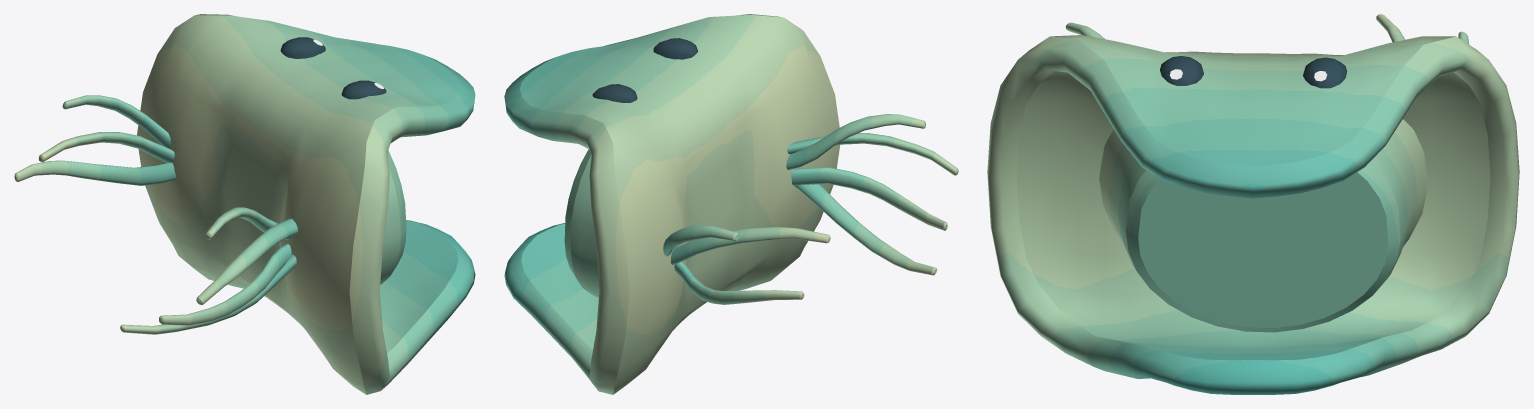
The model's file is JellyCorne.fbx.
3 views of the same model, side by side, from view 1: azimuth 30°, elevation 25°; view 2: azimuth 150°, elevation 25°; view 3: azimuth 270°, elevation 25° (orthographic). The views are drawn at different scales.
Visible parts, largest first — view 1: Cosmetic_Hat_Jellycorne_LOD0; view 2: Cosmetic_Hat_Jellycorne_LOD0; view 3: Cosmetic_Hat_Jellycorne_LOD0.
Boxes of the visible parts, x1,y1,x2,y2 form: Cosmetic_Hat_Jellycorne_LOD0: (14, 14, 475, 394); Cosmetic_Hat_Jellycorne_LOD0: (504, 14, 958, 394); Cosmetic_Hat_Jellycorne_LOD0: (987, 14, 1519, 394).
Bounding box in the file's own units: 0.5616 × 0.3674 × 0.5432.
1 material, 1 textured.
